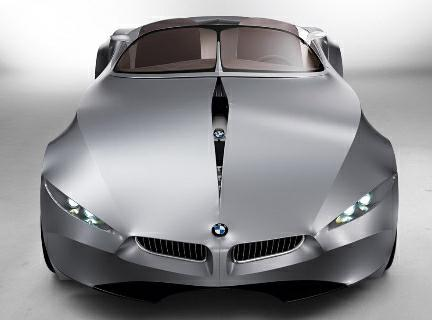宝马-GINA: (32, 8, 408, 300)
